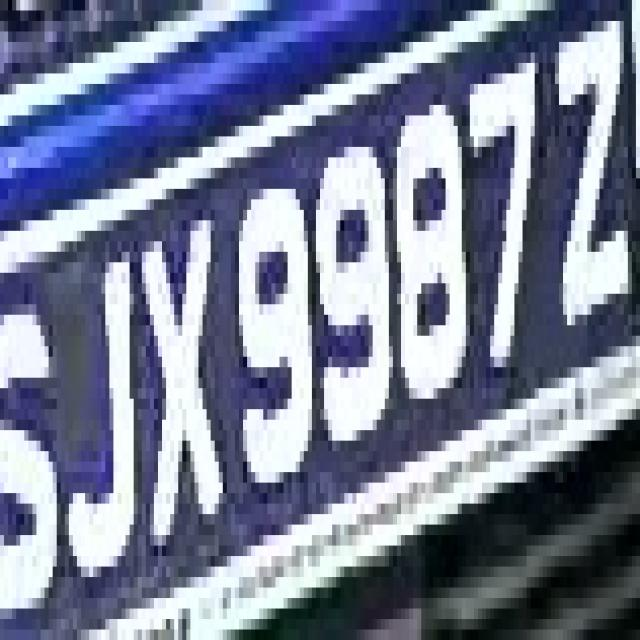7: (454, 21, 547, 409)
8: (381, 73, 478, 440)
9: (223, 147, 316, 503), (312, 136, 397, 504)
J: (69, 231, 150, 608)
S: (4, 273, 73, 619)
X: (138, 178, 235, 566)
Z: (555, 0, 628, 325)
